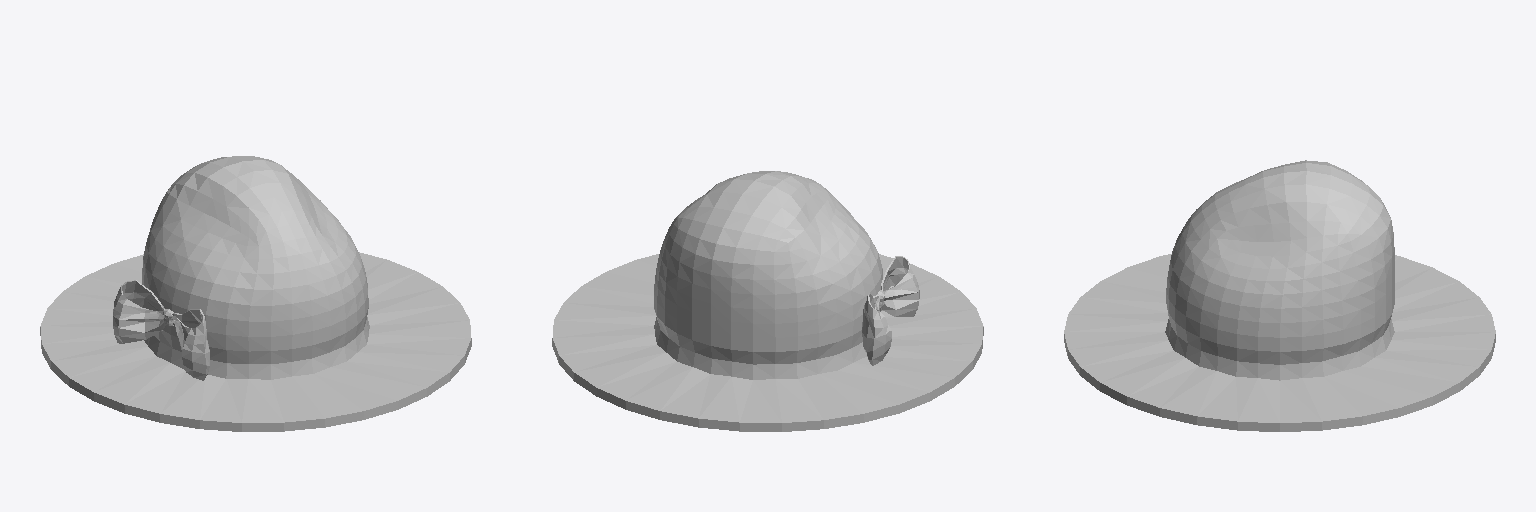
Rendered from sun_hat.obj.
3 views of the same model, side by side, from view 1: azimuth 30°, elevation 25°; view 2: azimuth 150°, elevation 25°; view 3: azimuth 270°, elevation 25° (orthographic).
Visible parts, largest first — view 1: Plane.001; view 2: Plane.001; view 3: Plane.001.
Part boxes in pixels (x1,y1,x2,y2): Plane.001: (40, 156, 471, 431); Plane.001: (552, 171, 983, 431); Plane.001: (1064, 160, 1495, 431).
Size of the model in its own units: 0.4266 by 0.1854 by 0.4266.